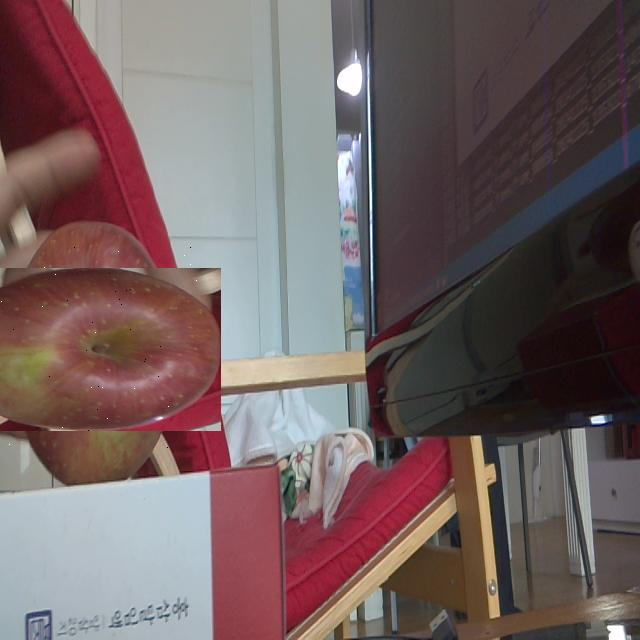apple: (0, 244, 197, 455)
